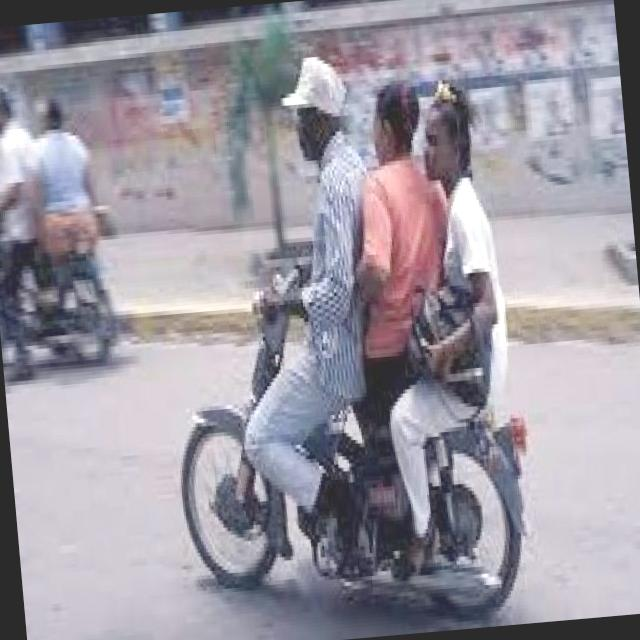motorcycle: (159, 242, 548, 640)
person: (259, 41, 414, 490), (398, 82, 540, 472), (330, 71, 464, 422)
rider_region: (142, 35, 543, 630)
